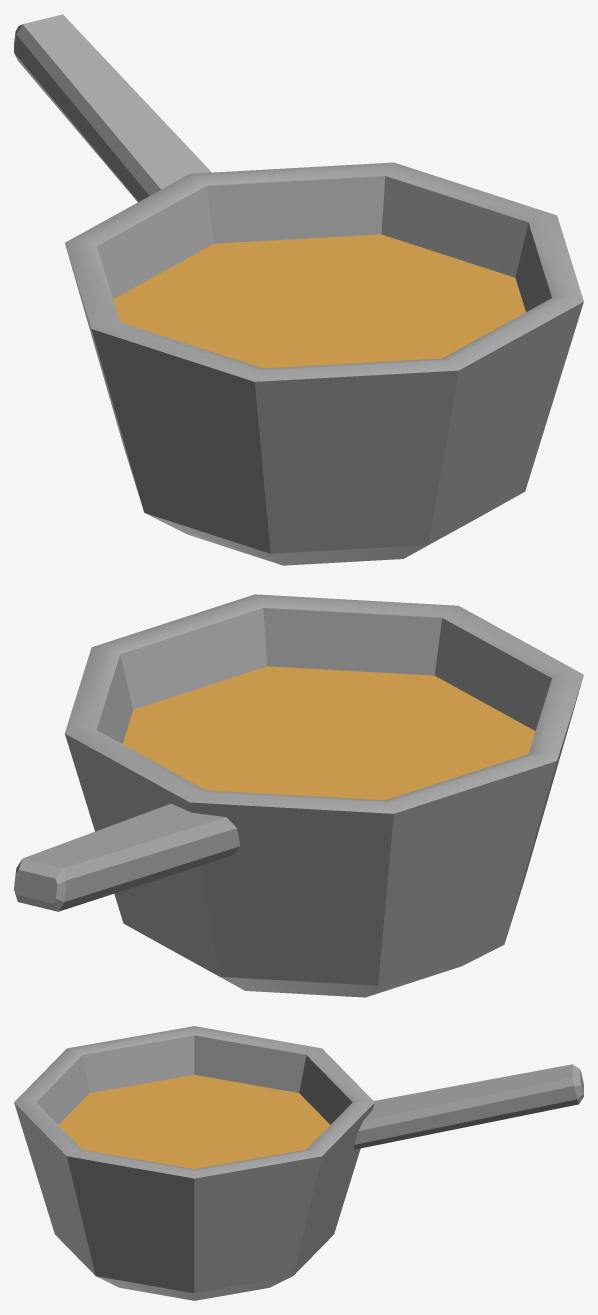
The model's file is ServingBowlFull.fbx.
The picture shows the model from 3 angles, top to bottom: view 1: azimuth 30°, elevation 25°; view 2: azimuth 150°, elevation 25°; view 3: azimuth 270°, elevation 25°; orthographic projection. The views are drawn at different scales.
Parts seen in each view (by area): view 1: ServingBowl1; view 2: ServingBowl1; view 3: ServingBowl1.
Part boxes in pixels (<box>): ServingBowl1: <box>14,14,583,565</box>; ServingBowl1: <box>14,594,583,997</box>; ServingBowl1: <box>14,1026,583,1300</box>.
Size of the model in its own units: 21.14 by 11.96 by 33.37.
